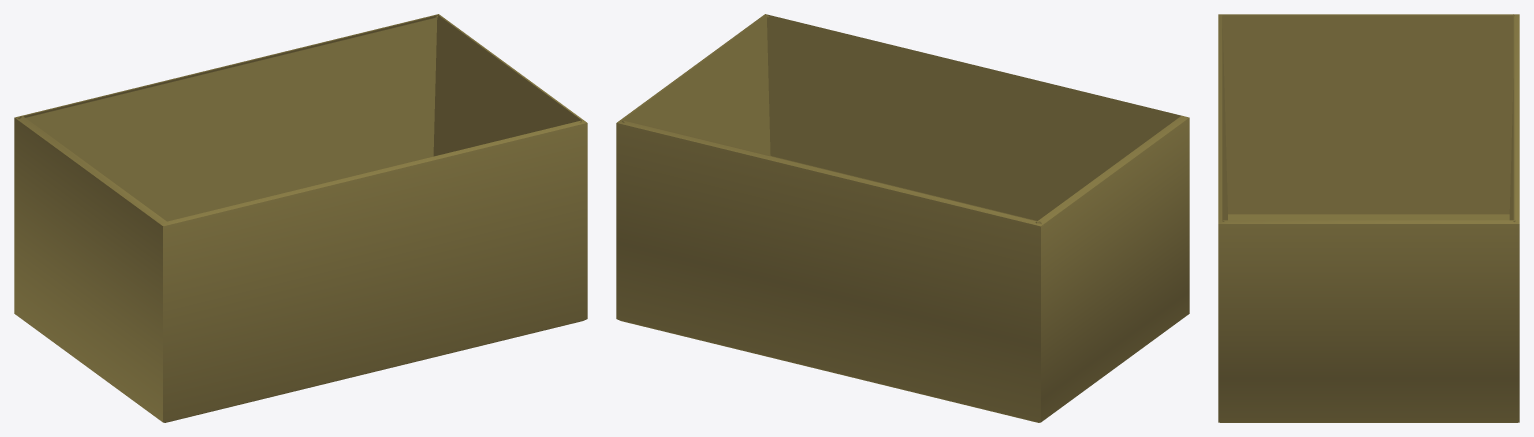
3 renders of one model, left to right at view 1: azimuth 30°, elevation 25°; view 2: azimuth 150°, elevation 25°; view 3: azimuth 270°, elevation 25°, orthographic.
Parts seen in each view (by area): view 1: main_box, box_flap3; view 2: main_box, box_flap3; view 3: main_box, box_flap3.
Boxes of the visible parts, x1=… form: main_box: x1=14, y1=14, x2=587, y2=422; box_flap3: x1=18, y1=15, x2=437, y2=118; main_box: x1=616, y1=14, x2=1189, y2=422; box_flap3: x1=620, y1=120, x2=1043, y2=225; main_box: x1=1218, y1=14, x2=1519, y2=422; box_flap3: x1=1513, y1=14, x2=1515, y2=222.
Bounding box in the file's own units: 24.84 × 11.29 × 15.06.
